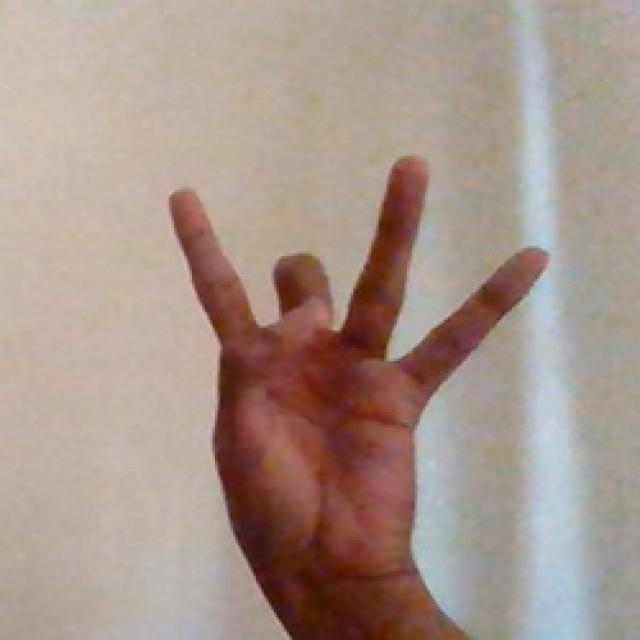Numeric-8: (159, 145, 546, 589)
